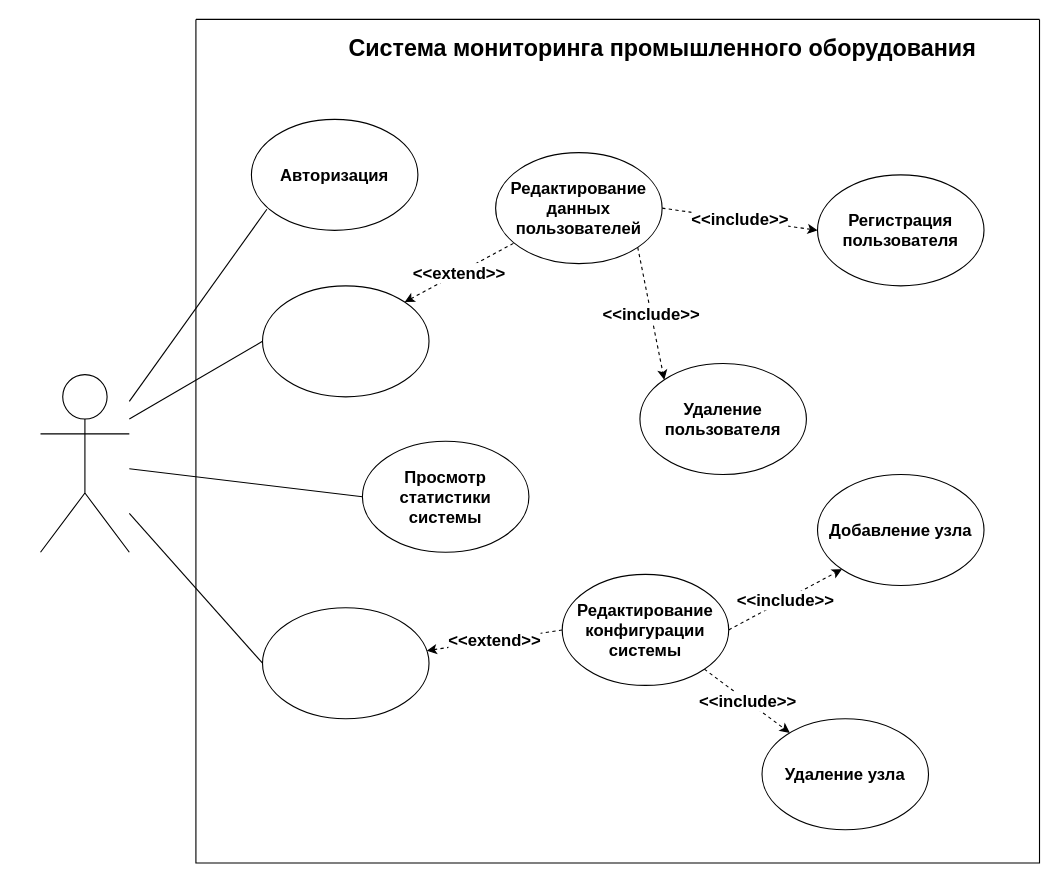
The diagram is 1059 pixels wide and 882 high, and some of its shapes have lost their labels. Here are the shapes that lost their labels. From the top down, the centre of each, then its label:
At [345,341]: "Просмотр данных пользователей".
At [84,463]: "Администратор системы".
At [345,663]: "Просмотр конфигурации системы".
